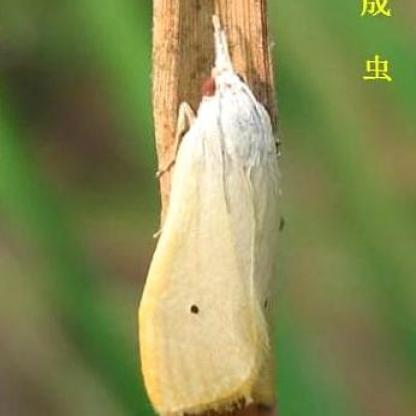stem-borer: (136, 13, 286, 416)
